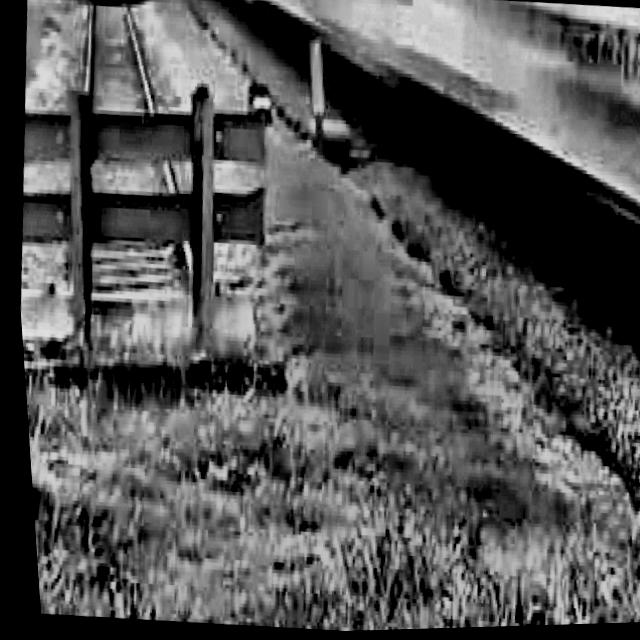Kereta: (151, 0, 640, 636), (130, 0, 249, 29)
